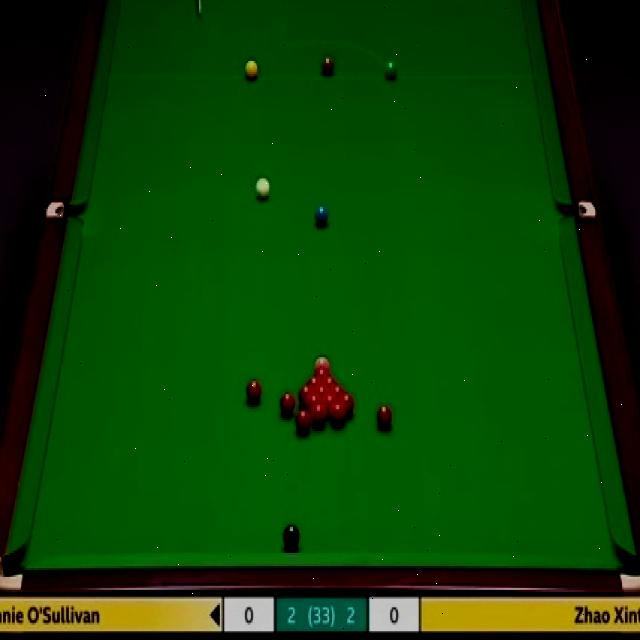black-ball: (283, 520, 300, 550)
blue-ball: (313, 203, 329, 229)
brown-ball: (321, 57, 334, 76)
green-ball: (385, 60, 397, 80)
pink-ball: (315, 353, 331, 368)
red-ball: (245, 380, 264, 407), (278, 390, 295, 420), (294, 409, 312, 437), (376, 402, 394, 429), (338, 393, 356, 417), (310, 404, 326, 429), (305, 392, 323, 414), (330, 403, 347, 426), (322, 392, 338, 414), (320, 376, 340, 391), (299, 384, 313, 397), (313, 366, 331, 376), (312, 384, 328, 395), (306, 376, 322, 386), (330, 385, 345, 395)
white-ball: (255, 174, 273, 202)
yellow-ball: (244, 58, 260, 80)
